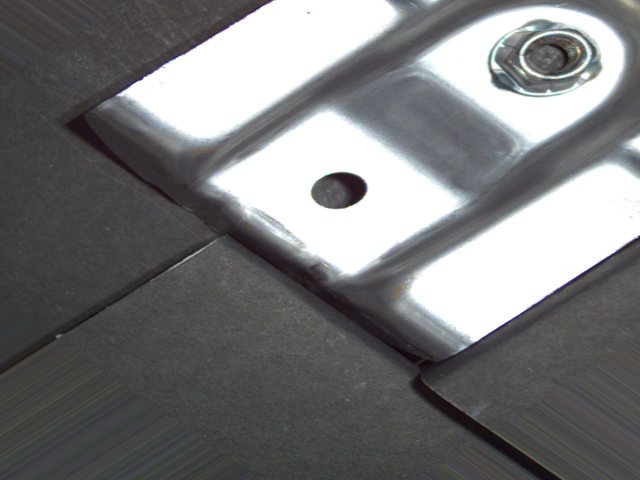good: (485, 16, 607, 99)
